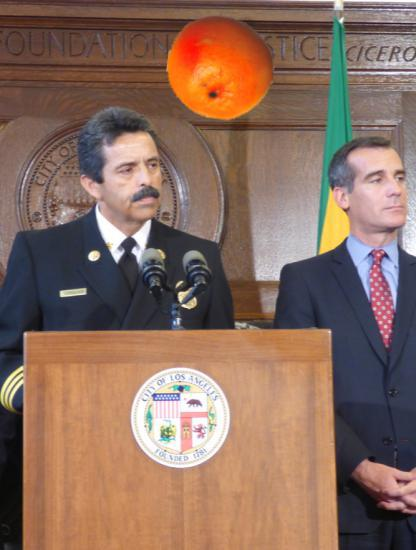Grapefruit: (167, 14, 275, 122)
